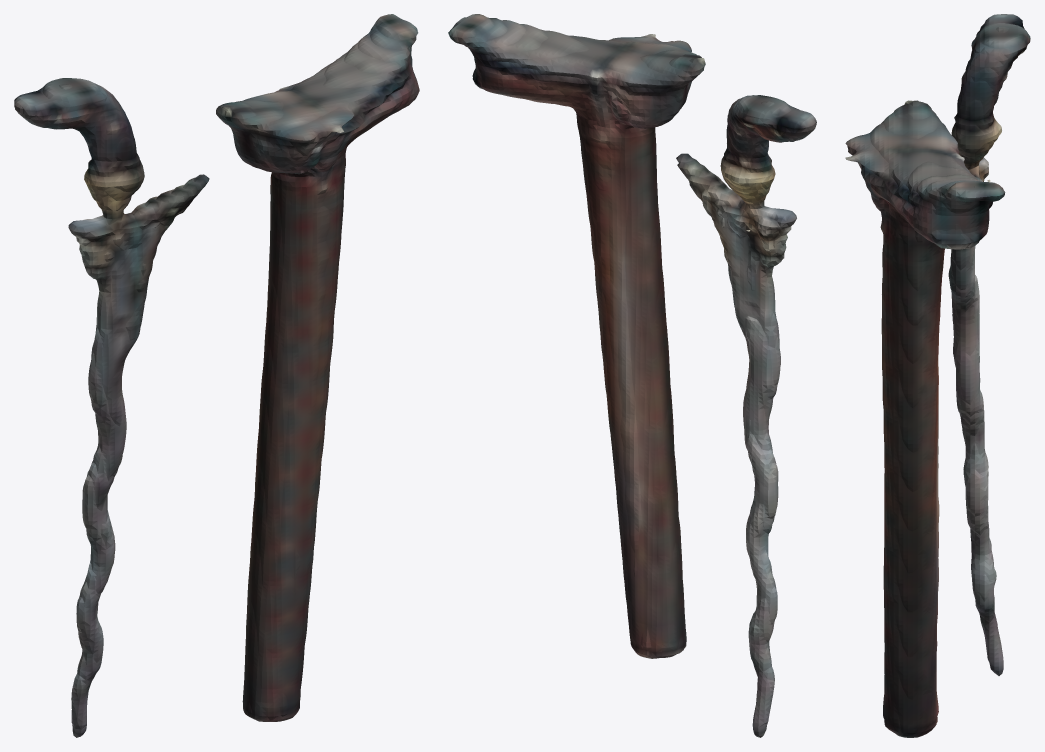
Rendered from jambi.glb.
3 renders of one model, left to right at view 1: azimuth 30°, elevation 25°; view 2: azimuth 150°, elevation 25°; view 3: azimuth 270°, elevation 25°, orthographic. The views are drawn at different scales.
Parts seen in each view (by area): view 1: world; view 2: world; view 3: world.
Boxes of the visible parts, x1,y1,x2,y2 form: world: (14, 14, 419, 737); world: (448, 14, 816, 737); world: (845, 14, 1030, 737).
Bounding box in the file's own units: 0.6169 × 1.01 × 0.264.
